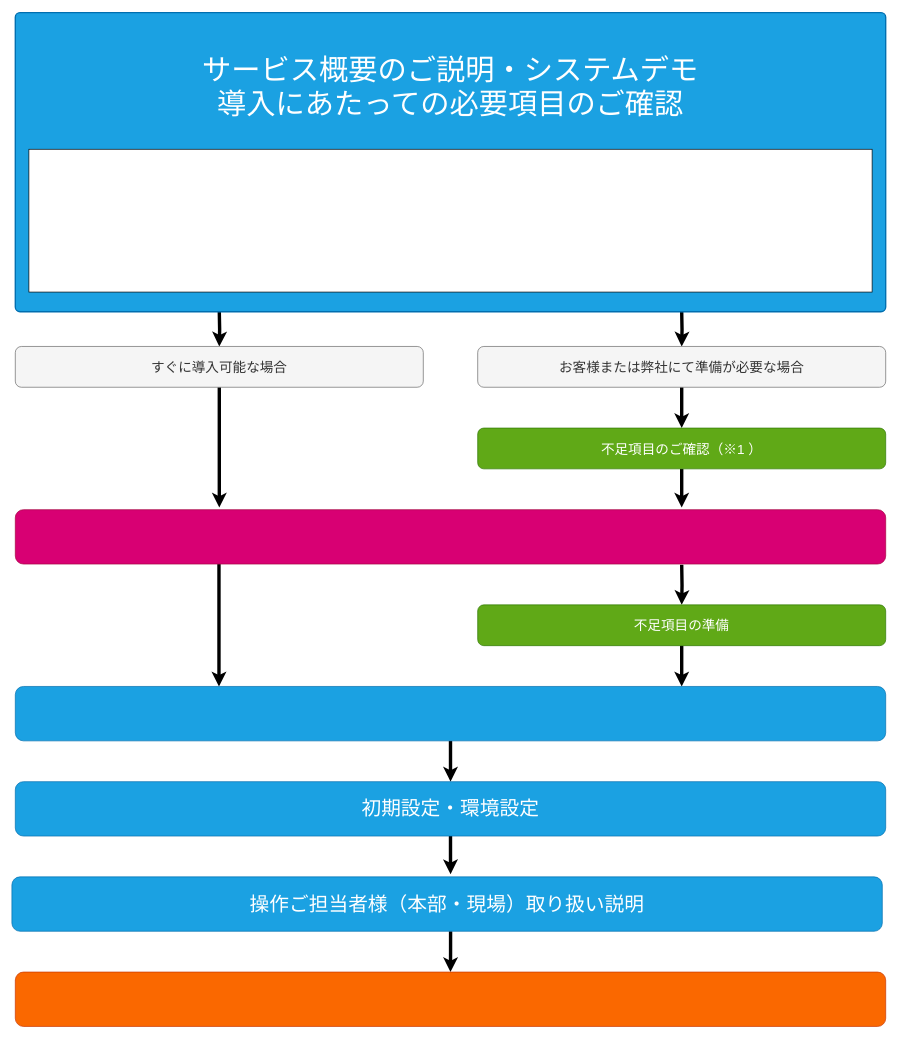
Some shapes in this 898 by 1038 pixel diagram are drawn without their labels. Here are the shapes that lost their labels. From the top down, the centre of each, then its label:
the point at 450,220: 〈主なヒアリング事項〉 ・使用給与科目を含む給与計算方法の確認 ・給与支払方法の確認 ・勤怠システム等との連動の有無 ・導入予定時期
the point at 450,536: ご導入決定
the point at 450,713: hibarai Engine インストール
the point at 450,998: 使用開始
